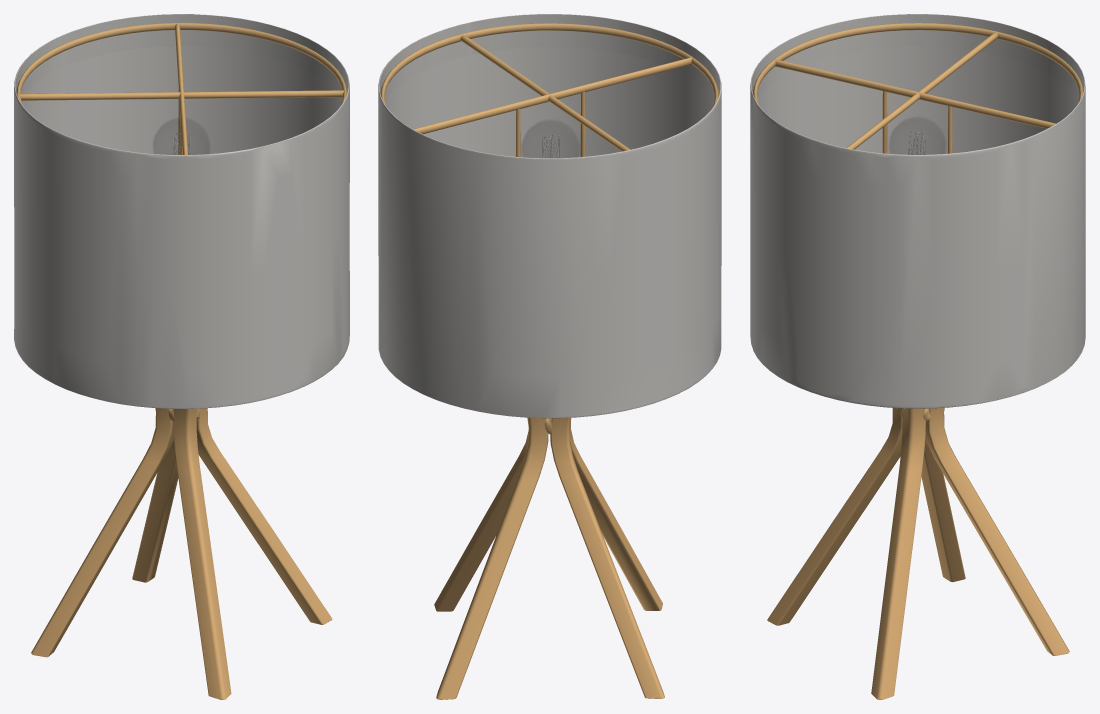
File: B073751DMJ.glb
3 views of the same model, side by side, from view 1: azimuth 30°, elevation 25°; view 2: azimuth 150°, elevation 25°; view 3: azimuth 270°, elevation 25° (orthographic). The views are drawn at different scales.
Visible parts, largest first — view 1: RootNode; view 2: RootNode; view 3: RootNode.
Part boxes in pixels (bbox=[...]): RootNode: bbox=[14, 14, 349, 699]; RootNode: bbox=[378, 14, 721, 699]; RootNode: bbox=[750, 14, 1085, 699].
Size of the model in its own units: 0.2525 by 0.4579 by 0.252.
Materials: 1 (1 with a texture image).
